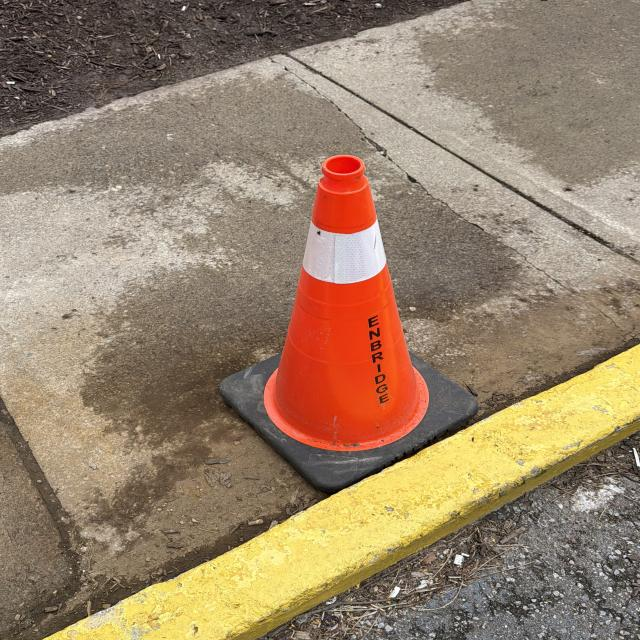Traffic Cone: (217, 156, 482, 492)
